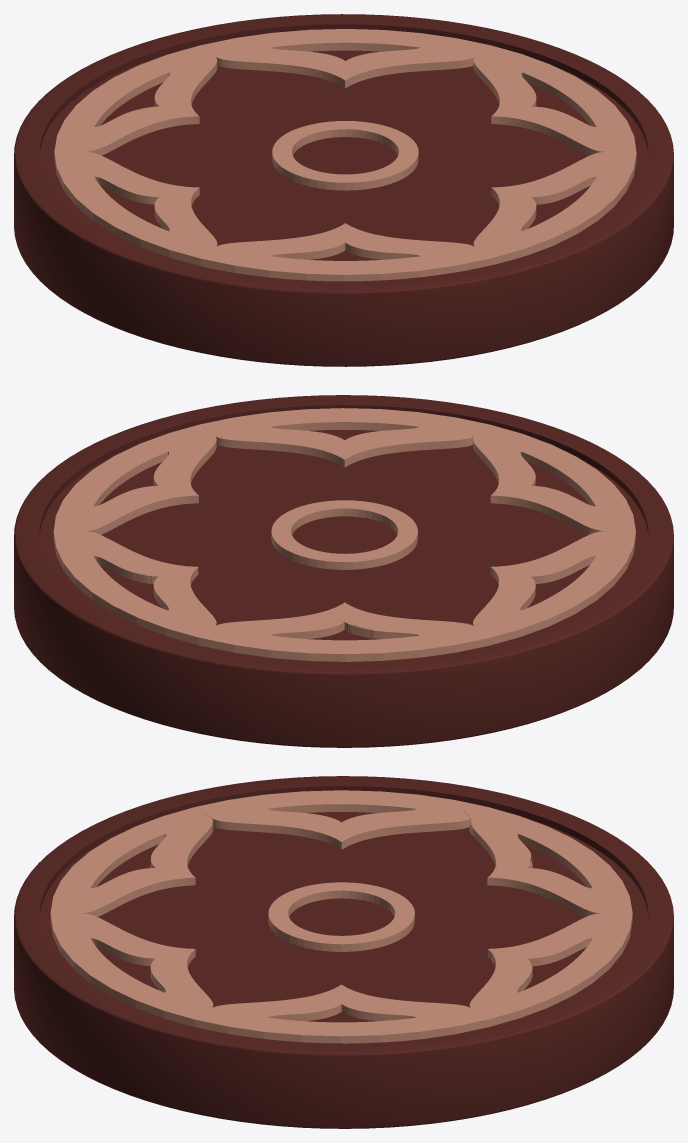
File: Rose_R.fbx
The picture shows the model from 3 angles, top to bottom: view 1: azimuth 30°, elevation 25°; view 2: azimuth 150°, elevation 25°; view 3: azimuth 270°, elevation 25°; orthographic projection.
Visible parts, largest first — view 1: Tile09.002; view 2: Tile09.002; view 3: Tile09.002.
Part boxes in pixels (bbox=[...]): Tile09.002: bbox=[14, 14, 673, 366]; Tile09.002: bbox=[14, 395, 673, 747]; Tile09.002: bbox=[14, 776, 673, 1128].
Size of the model in its own units: 13.25 by 1.71 by 13.25.
